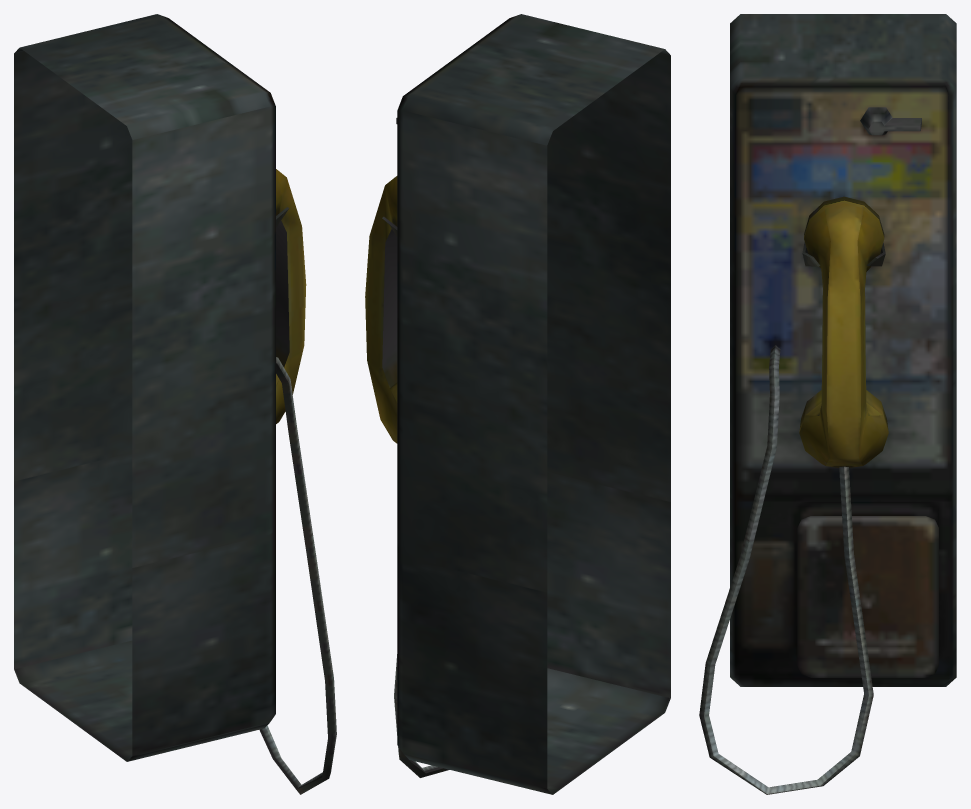
Rendered from phone_booth_indoor.glb.
3 views of the same model, side by side, from view 1: azimuth 30°, elevation 25°; view 2: azimuth 150°, elevation 25°; view 3: azimuth 270°, elevation 25° (orthographic). The views are drawn at different scales.
Visible parts, largest first — view 1: phone_booth_indoor; view 2: phone_booth_indoor; view 3: phone_booth_indoor.
Boxes of the visible parts, bbox=[...] form: phone_booth_indoor: bbox=[14, 14, 336, 794]; phone_booth_indoor: bbox=[365, 14, 670, 794]; phone_booth_indoor: bbox=[699, 14, 956, 794].
Size of the model in its own units: 0.1623 by 0.5004 by 0.1684.
1 material, 1 textured.
